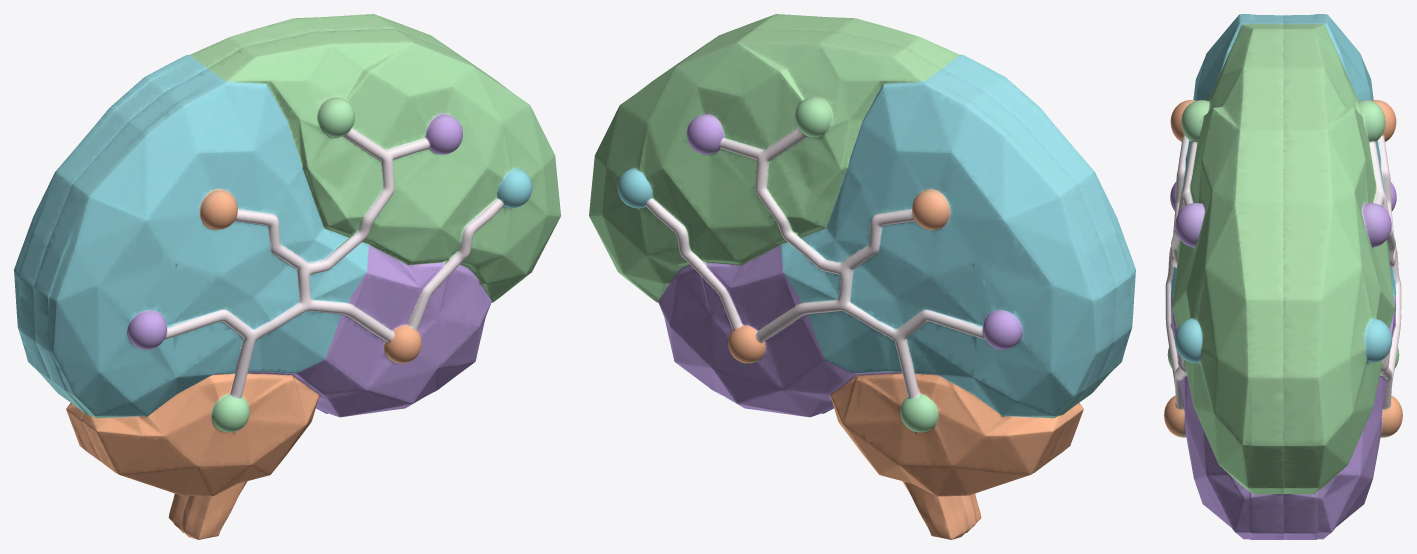
File: memory-draco.glb
3 views of the same model, side by side, from view 1: azimuth 30°, elevation 25°; view 2: azimuth 150°, elevation 25°; view 3: azimuth 270°, elevation 25° (orthographic). The views are drawn at different scales.
Visible parts, largest first — view 1: high poly; view 2: high poly; view 3: high poly.
Boxes of the visible parts, x1,y1,x2,y2 form: high poly: (14, 14, 560, 539); high poly: (589, 14, 1135, 539); high poly: (1164, 14, 1402, 539).
Bounding box in the file's own units: 1.9 × 1.7 × 0.6944.
Materials: 1 (1 with a texture image).
